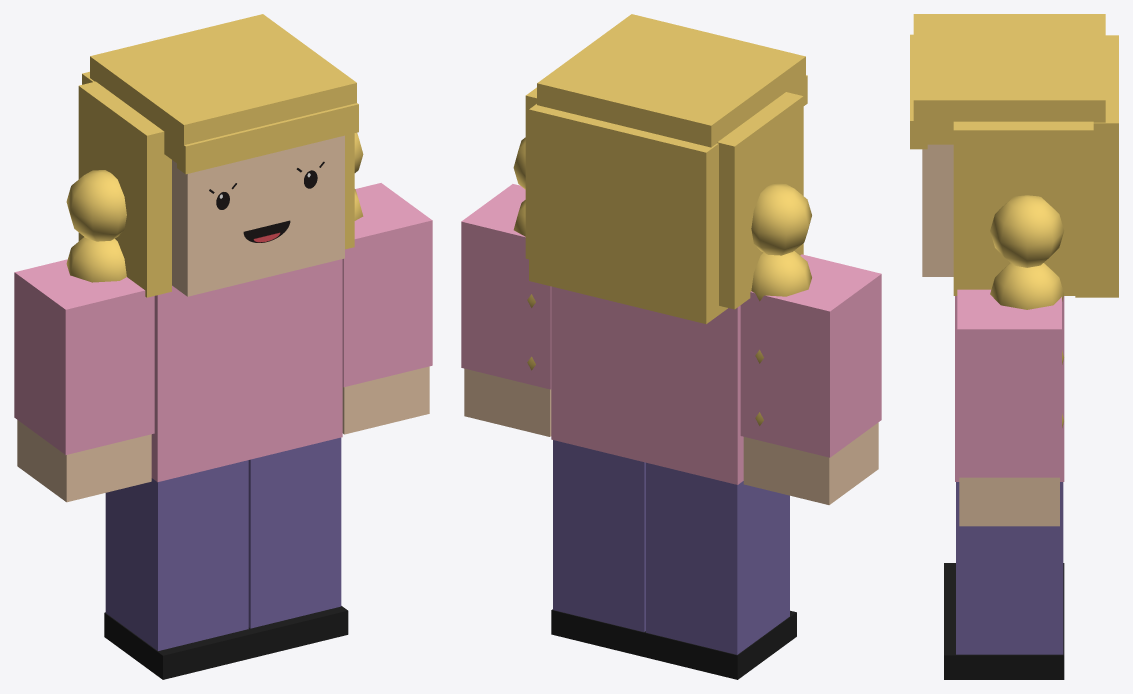
The model's file is blonde_girl.glb.
3 views of the same model, side by side, from view 1: azimuth 30°, elevation 25°; view 2: azimuth 150°, elevation 25°; view 3: azimuth 270°, elevation 25° (orthographic). The views are drawn at different scales.
Parts seen in each view (by area): view 1: head, torso, arm_R, leg_R, arm_L, leg_L, face; view 2: head, torso, arm_R, leg_R, leg_L, arm_L; view 3: head, arm_L, leg_L, torso, leg_R.
Boxes of the visible parts, x1,y1,x2,y2 form: head: (66, 14, 363, 297); torso: (151, 259, 342, 482); arm_R: (14, 259, 154, 502); leg_R: (104, 460, 255, 679); arm_L: (342, 183, 432, 434); leg_L: (248, 437, 348, 657); face: (209, 161, 324, 242); head: (513, 14, 811, 425); torso: (551, 286, 743, 484); arm_R: (740, 254, 881, 504); leg_R: (644, 462, 796, 679); leg_L: (551, 440, 645, 656); arm_L: (461, 184, 551, 436); head: (910, 14, 1118, 427); arm_L: (957, 289, 1061, 526); leg_L: (944, 482, 1064, 679); torso: (955, 296, 1064, 481); leg_R: (944, 563, 1064, 608).
Bounding box in the file's own units: 0.99 × 1.46 × 0.478.
7 materials, 1 textured.
